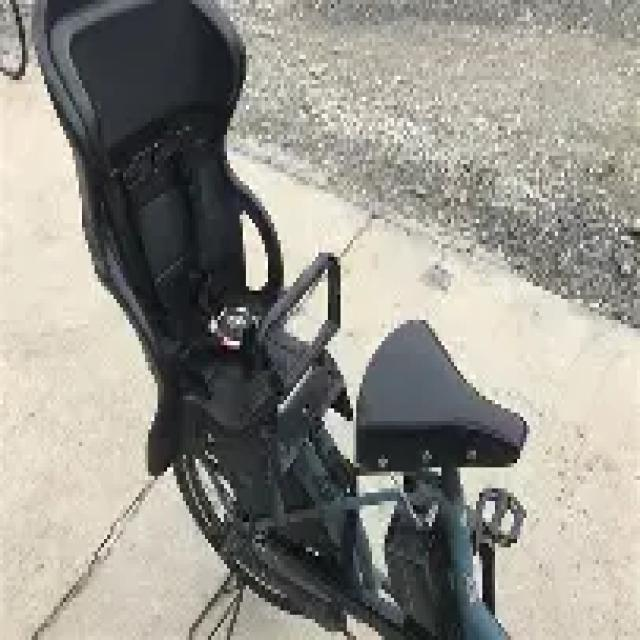childseat: (20, 0, 351, 528)
